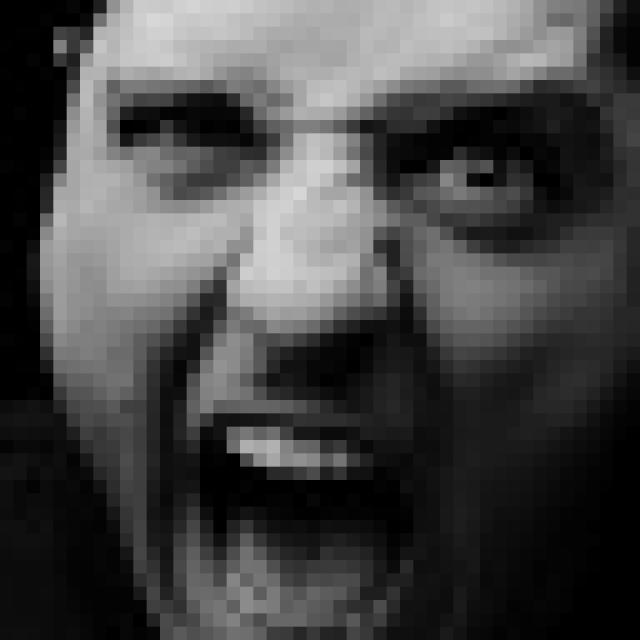angry: (113, 67, 603, 640)
